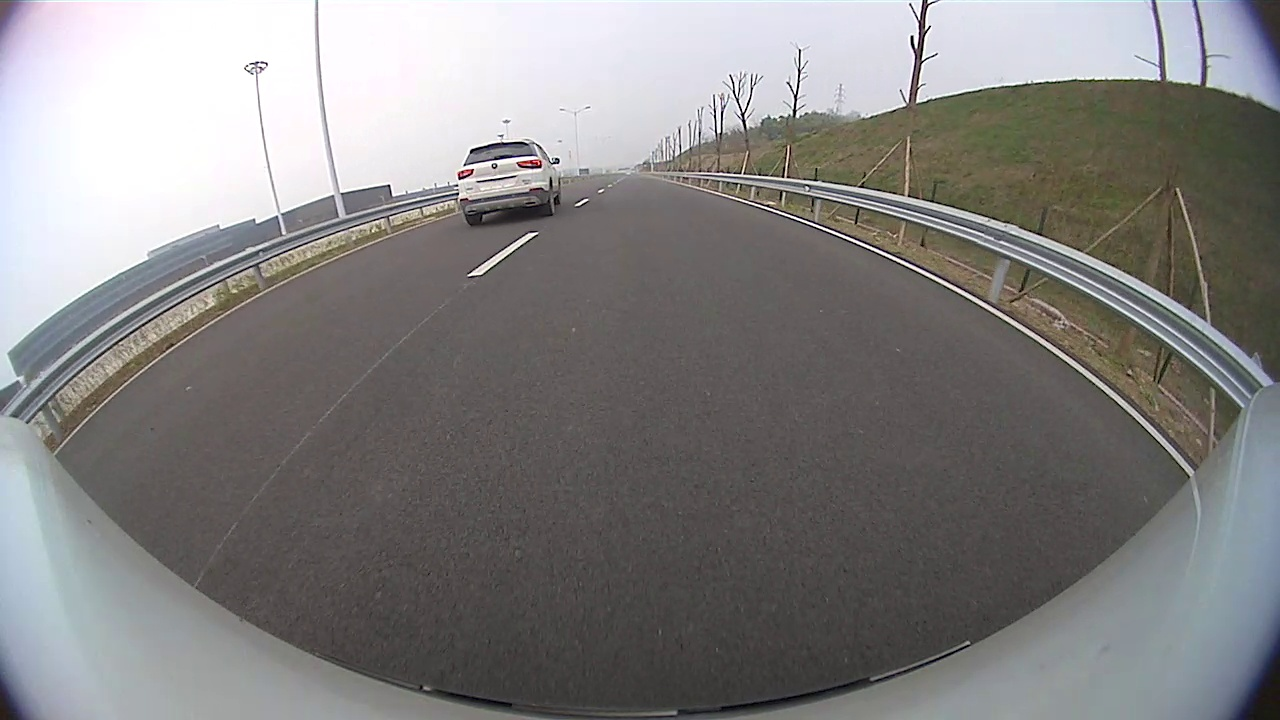car: (455, 139, 564, 225)
